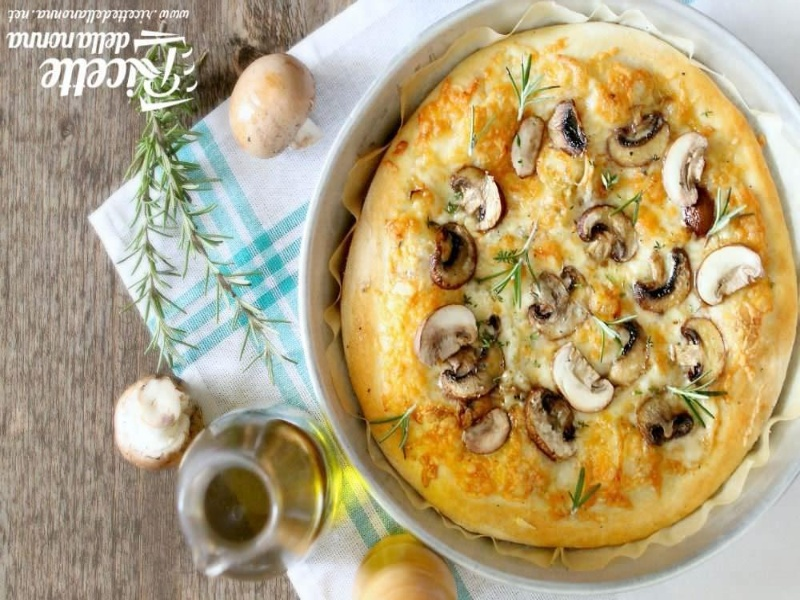champignon: (517, 266, 600, 354), (542, 342, 623, 417), (621, 242, 698, 315), (603, 98, 673, 175), (524, 384, 587, 465), (435, 335, 511, 401), (413, 300, 485, 369), (694, 242, 767, 308), (575, 204, 640, 273), (445, 163, 507, 235), (427, 223, 483, 298), (661, 128, 711, 209), (678, 315, 731, 391), (632, 391, 703, 447), (546, 97, 598, 165)
